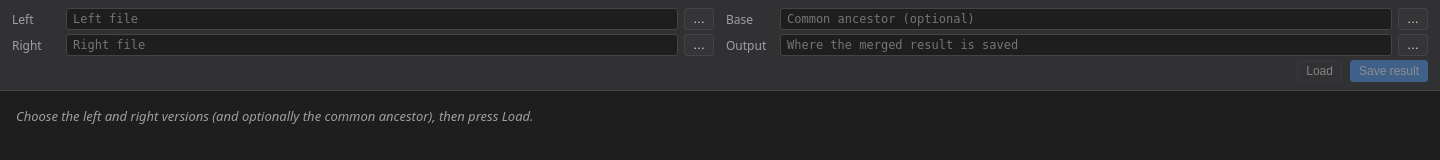
Test: <MergeTab /> › fills a path from the native file picker
The width and height of the screenshot is (1440, 160).
Click the button named "Browse for base file".
click(1413, 19)  # box [1398,8,1428,30]
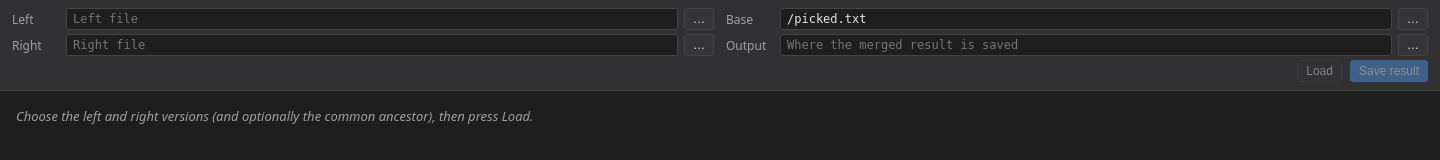
Expected: the field named "Base file path" holds "/picked.txt", [780,8,1392,30]
